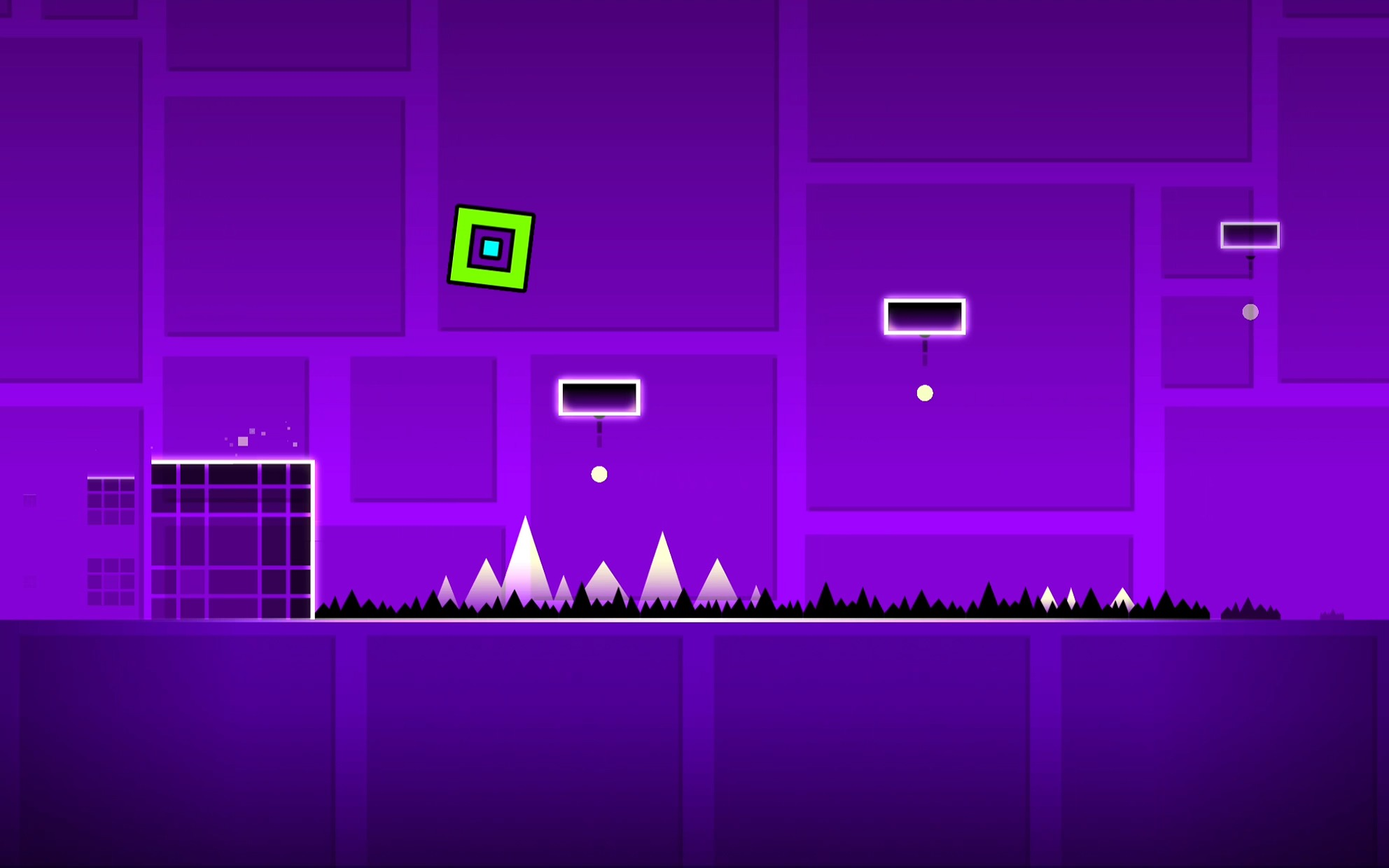Block2: (151, 464, 316, 611)
Block3: (879, 296, 969, 335), (563, 381, 638, 416), (1220, 219, 1288, 249)
Player: (448, 205, 534, 292)
Spike3: (311, 583, 1389, 622)
